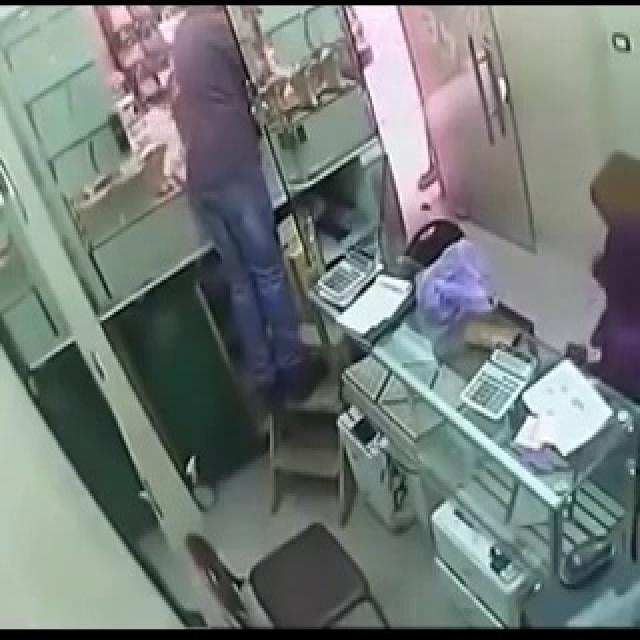shoplifting: (169, 8, 325, 405)
